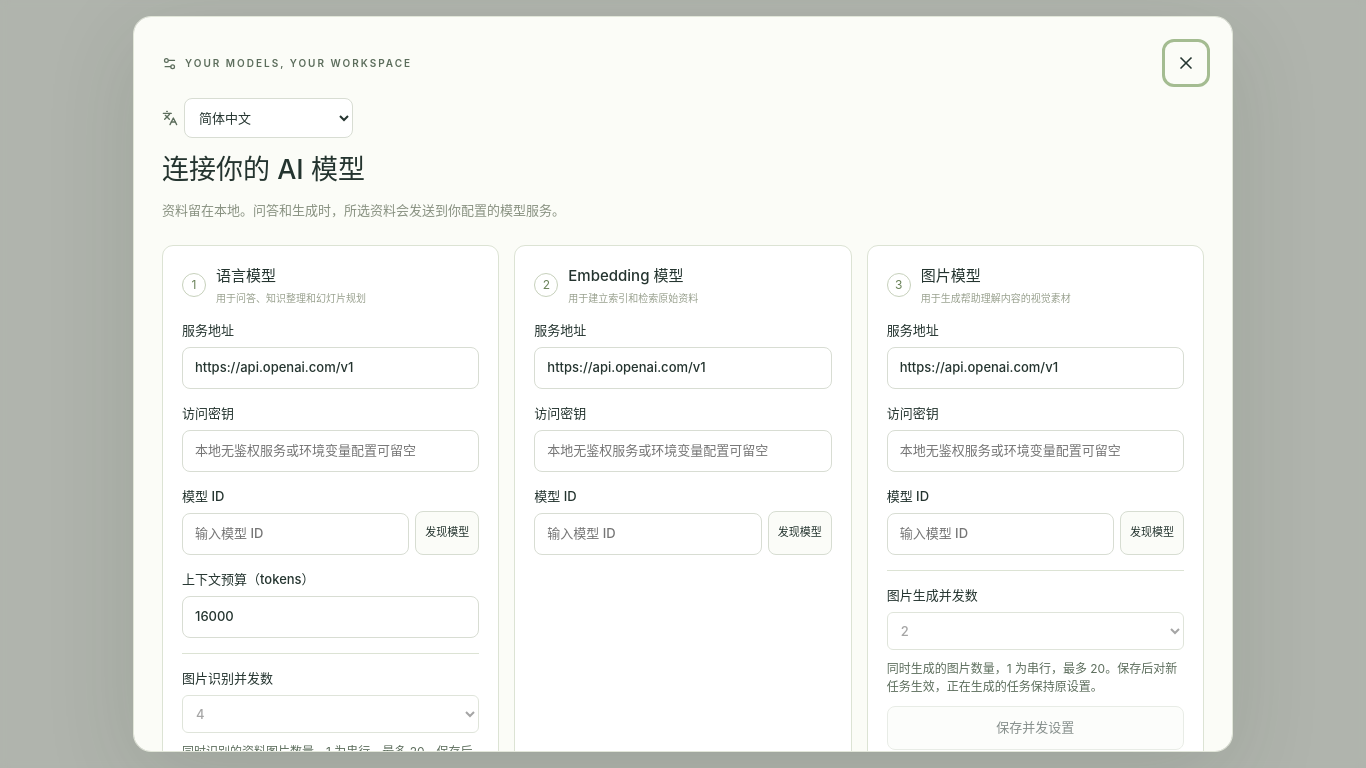
it: Setup › keeps custom model entry available when discovery fails and clears the key after success
Click the button "发现模型" below "用于问答、知识整理和幻灯片规划" at coordinates (447, 532), box 415,510 -> 479,554
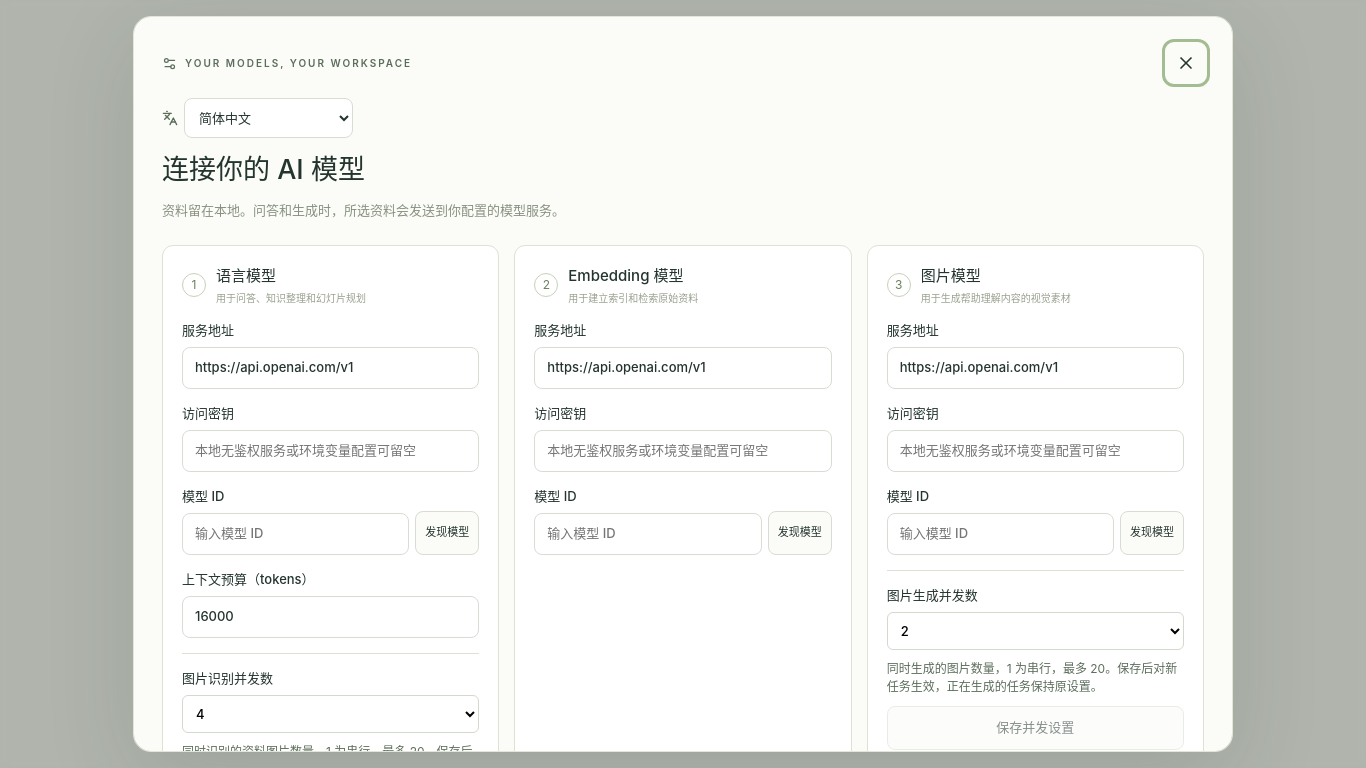
Type "custom-model" into the field labelled "模型 ID" below "用于问答、知识整理和幻灯片规划" at coordinates (296, 534), box 182,513 -> 409,554
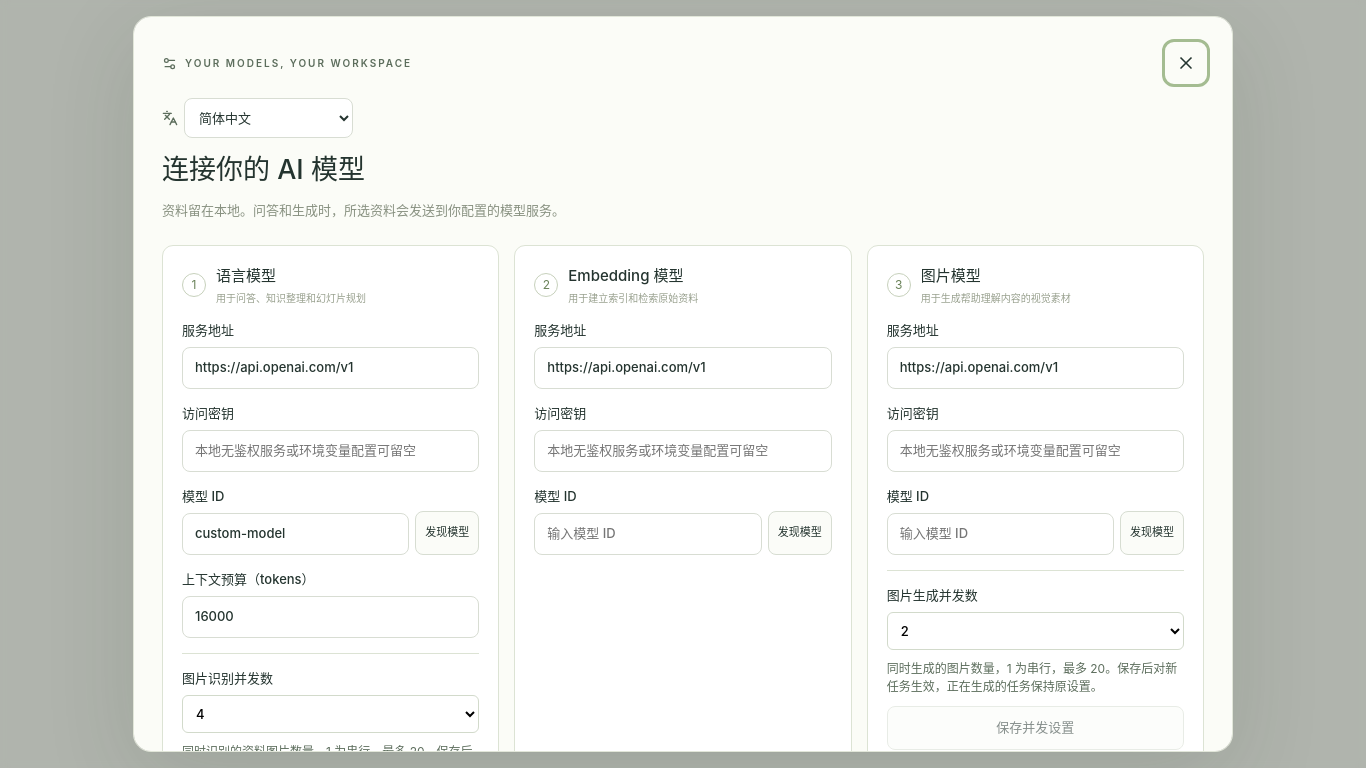
Type "private-key" into the password field labelled "访问密钥" below "用于问答、知识整理和幻灯片规划" at coordinates (331, 451), box 182,430 -> 479,472
(page scrolled)
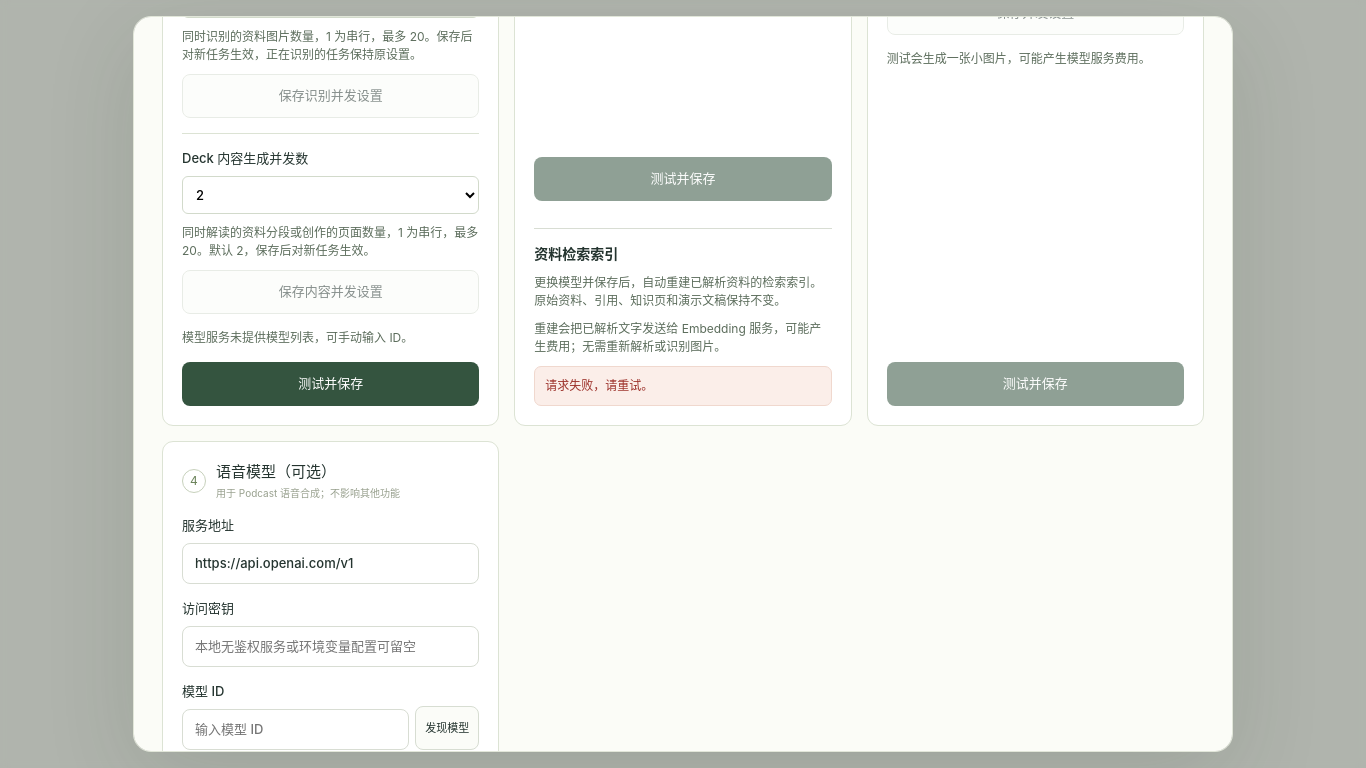
Click the button "测试并保存" below "模型服务未提供模型列表，可手动输入 ID。" at coordinates (331, 384), box 182,362 -> 479,406
(page scrolled)
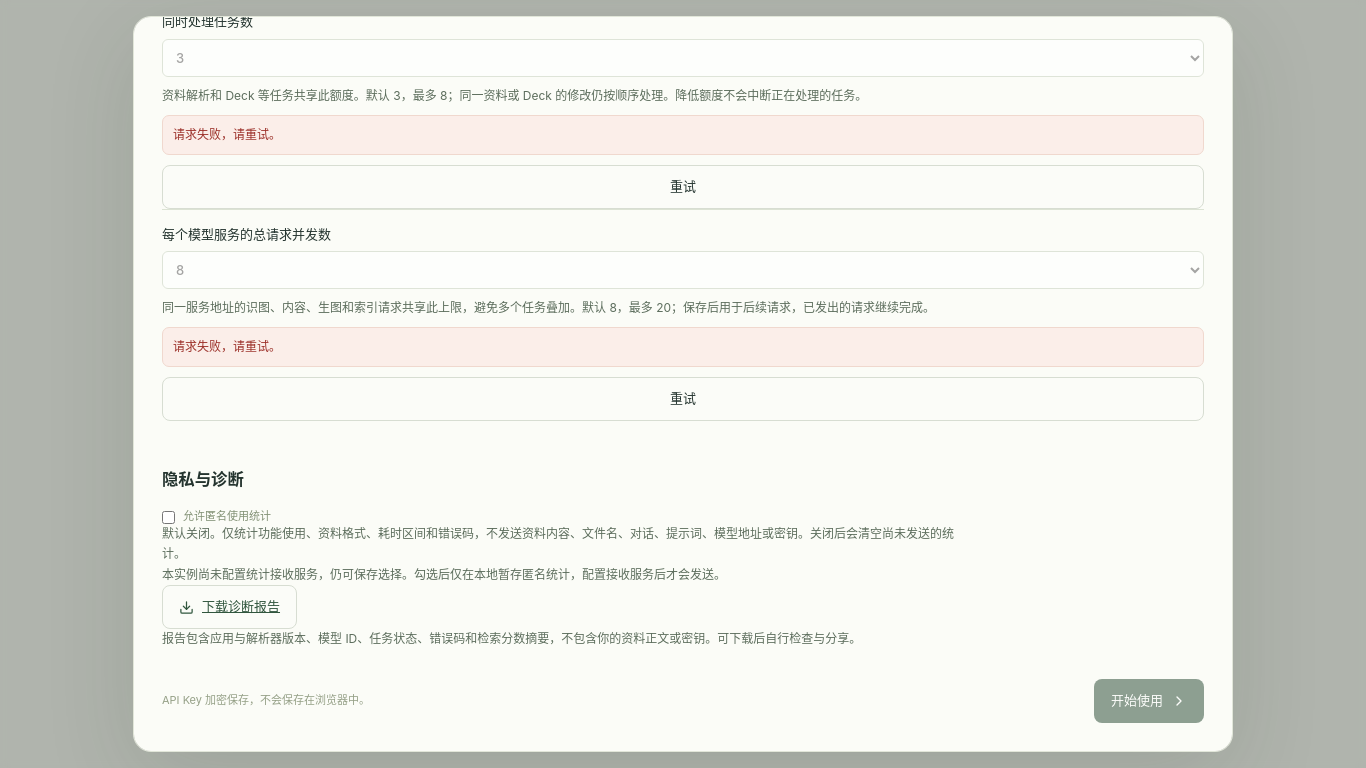
Now the button "开始使用" is disabled, box 1094,679 -> 1204,723
